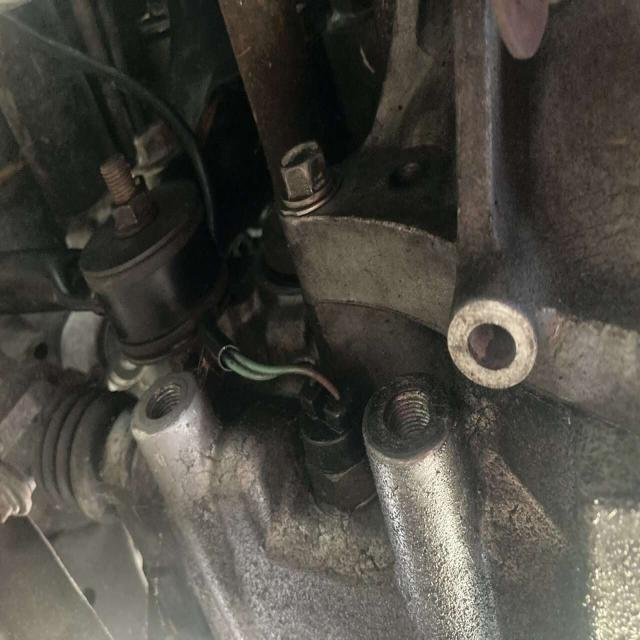Missing bolt: (384, 380, 440, 456), (143, 375, 189, 429)
Regular bolt: (280, 140, 339, 213)
Rusty bolt: (105, 155, 157, 231)
